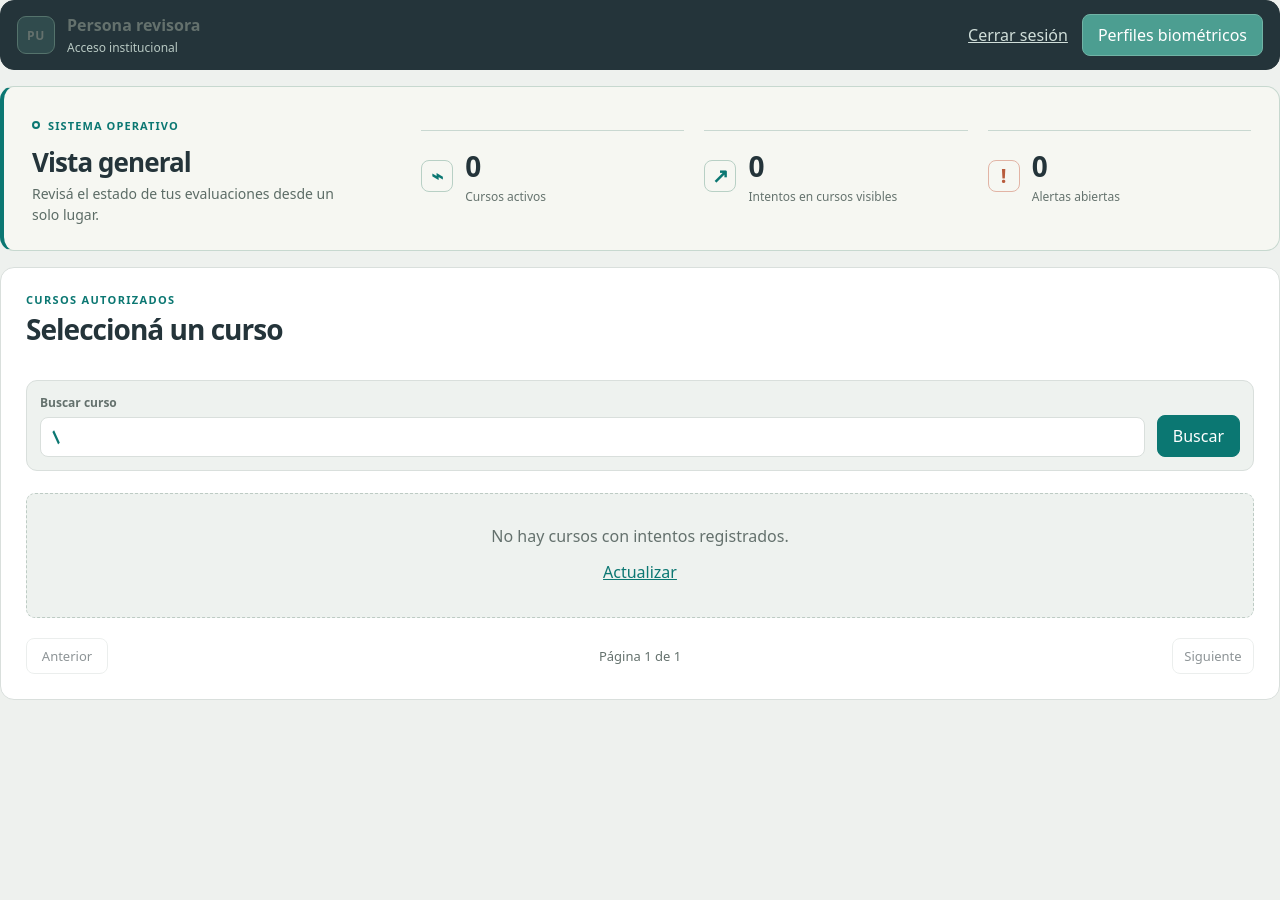
clears a course search with an app-owned control
Type "Derecho" into the search field labelled "Buscar curso" at (592, 437), box x1=40 y1=417 x2=1145 y2=457
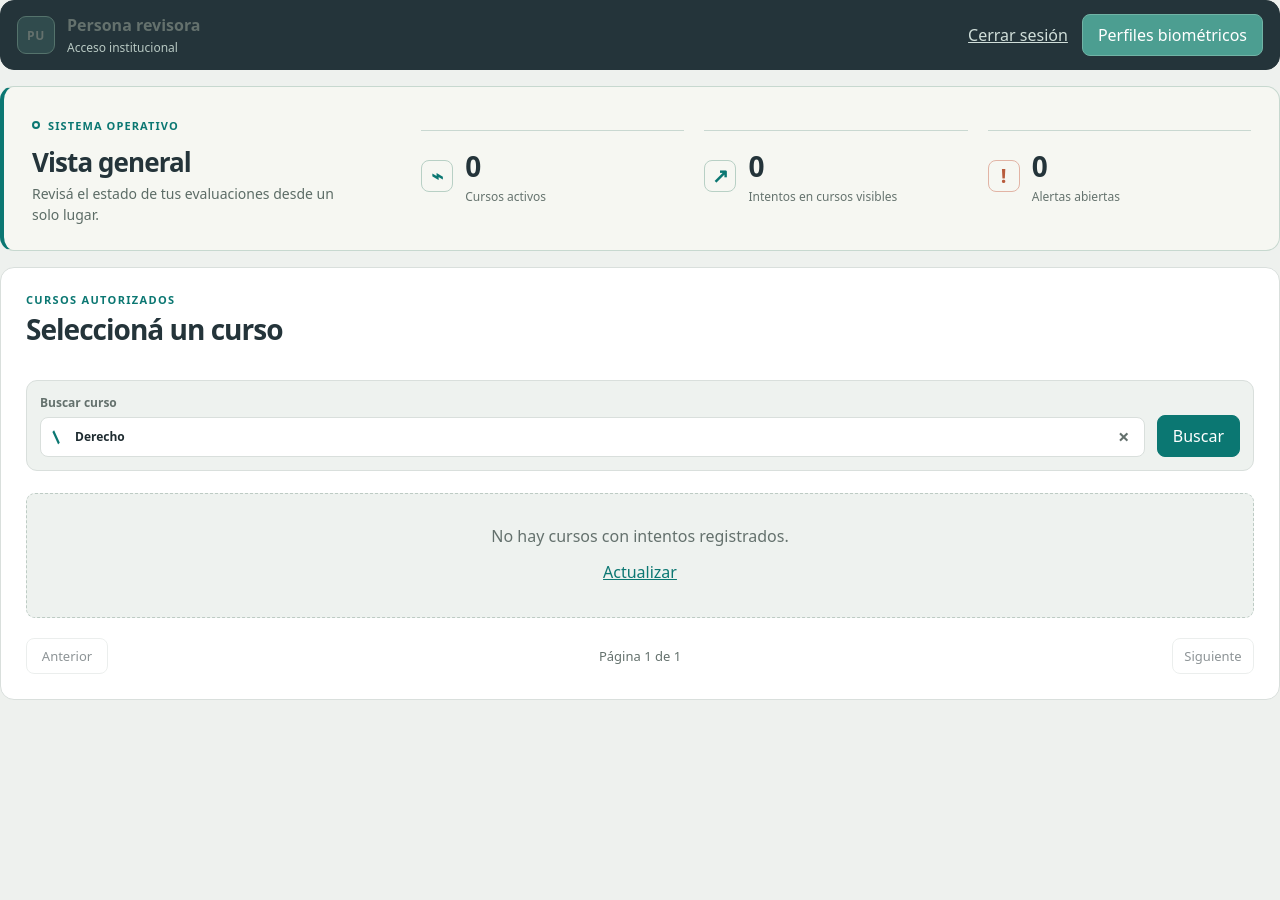
Click the button named "Limpiar búsqueda" at (1124, 437), box x1=1111 y1=424 x2=1137 y2=450
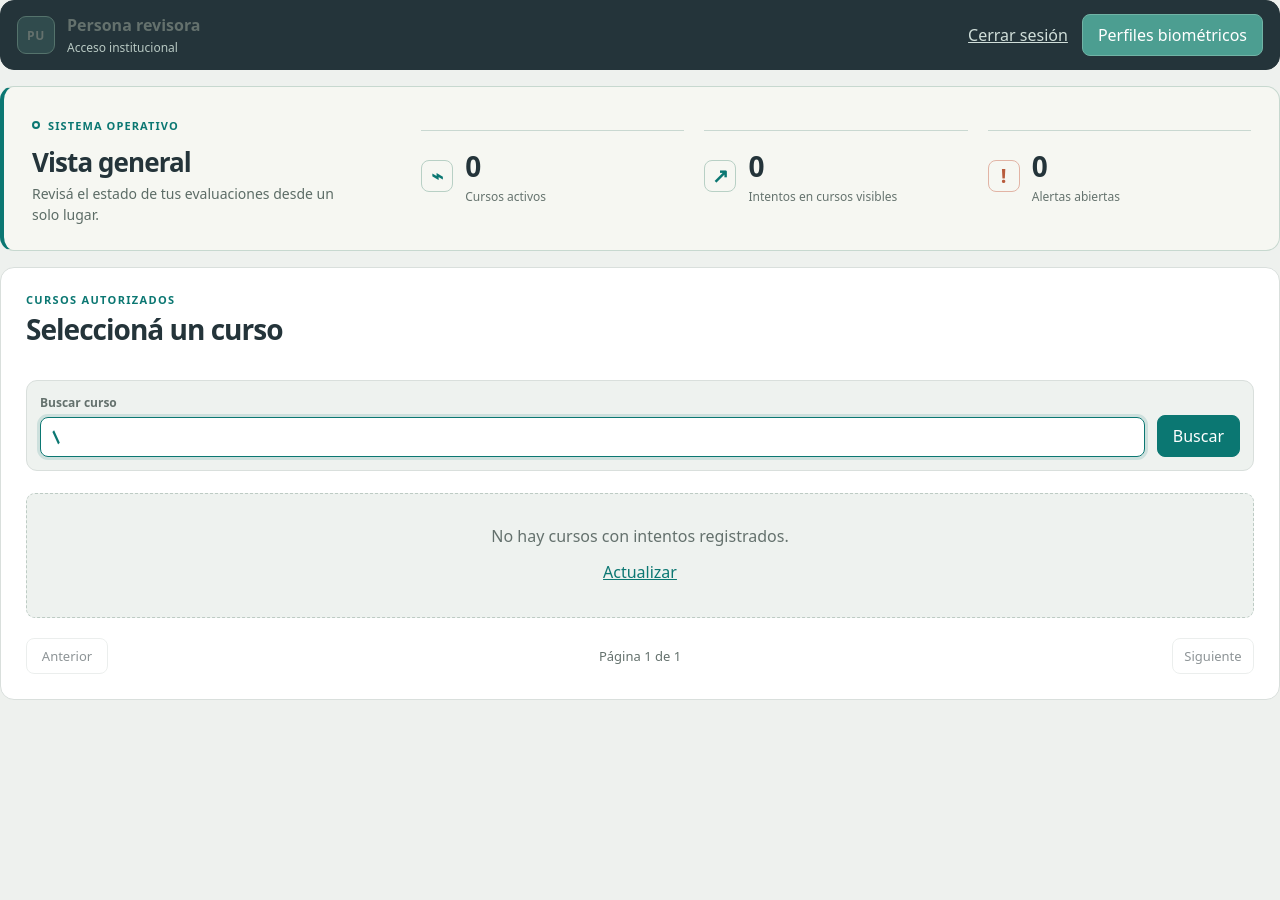
Expected: the search field labelled "Buscar curso" is empty, x1=40 y1=417 x2=1145 y2=457
